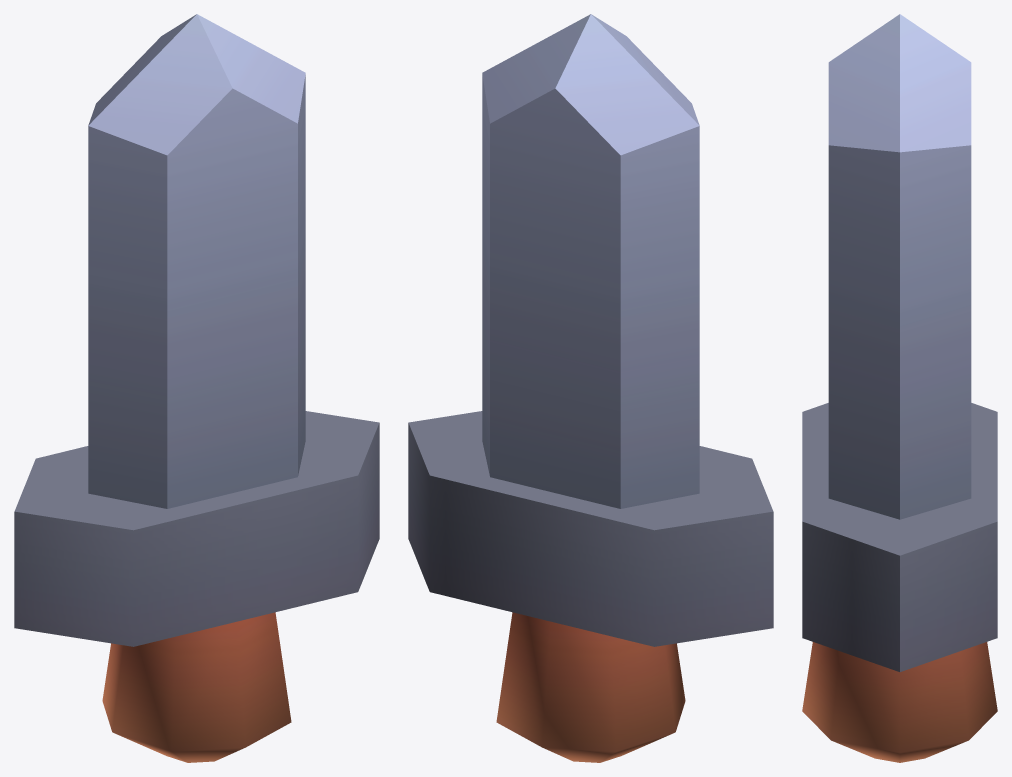
File: arena_sword.glb
3 renders of one model, left to right at view 1: azimuth 30°, elevation 25°; view 2: azimuth 150°, elevation 25°; view 3: azimuth 270°, elevation 25°, orthographic.
Visible parts, largest first — view 1: weapon-sword; view 2: weapon-sword; view 3: weapon-sword.
Boxes of the visible parts, left/top/right/bottom form: weapon-sword: left=14, top=14, right=379, bottom=762; weapon-sword: left=408, top=14, right=773, bottom=762; weapon-sword: left=802, top=14, right=997, bottom=762.
Size of the model in its own units: 0.233 by 0.448 by 0.1082.
Materials: 1 (1 with a texture image).
